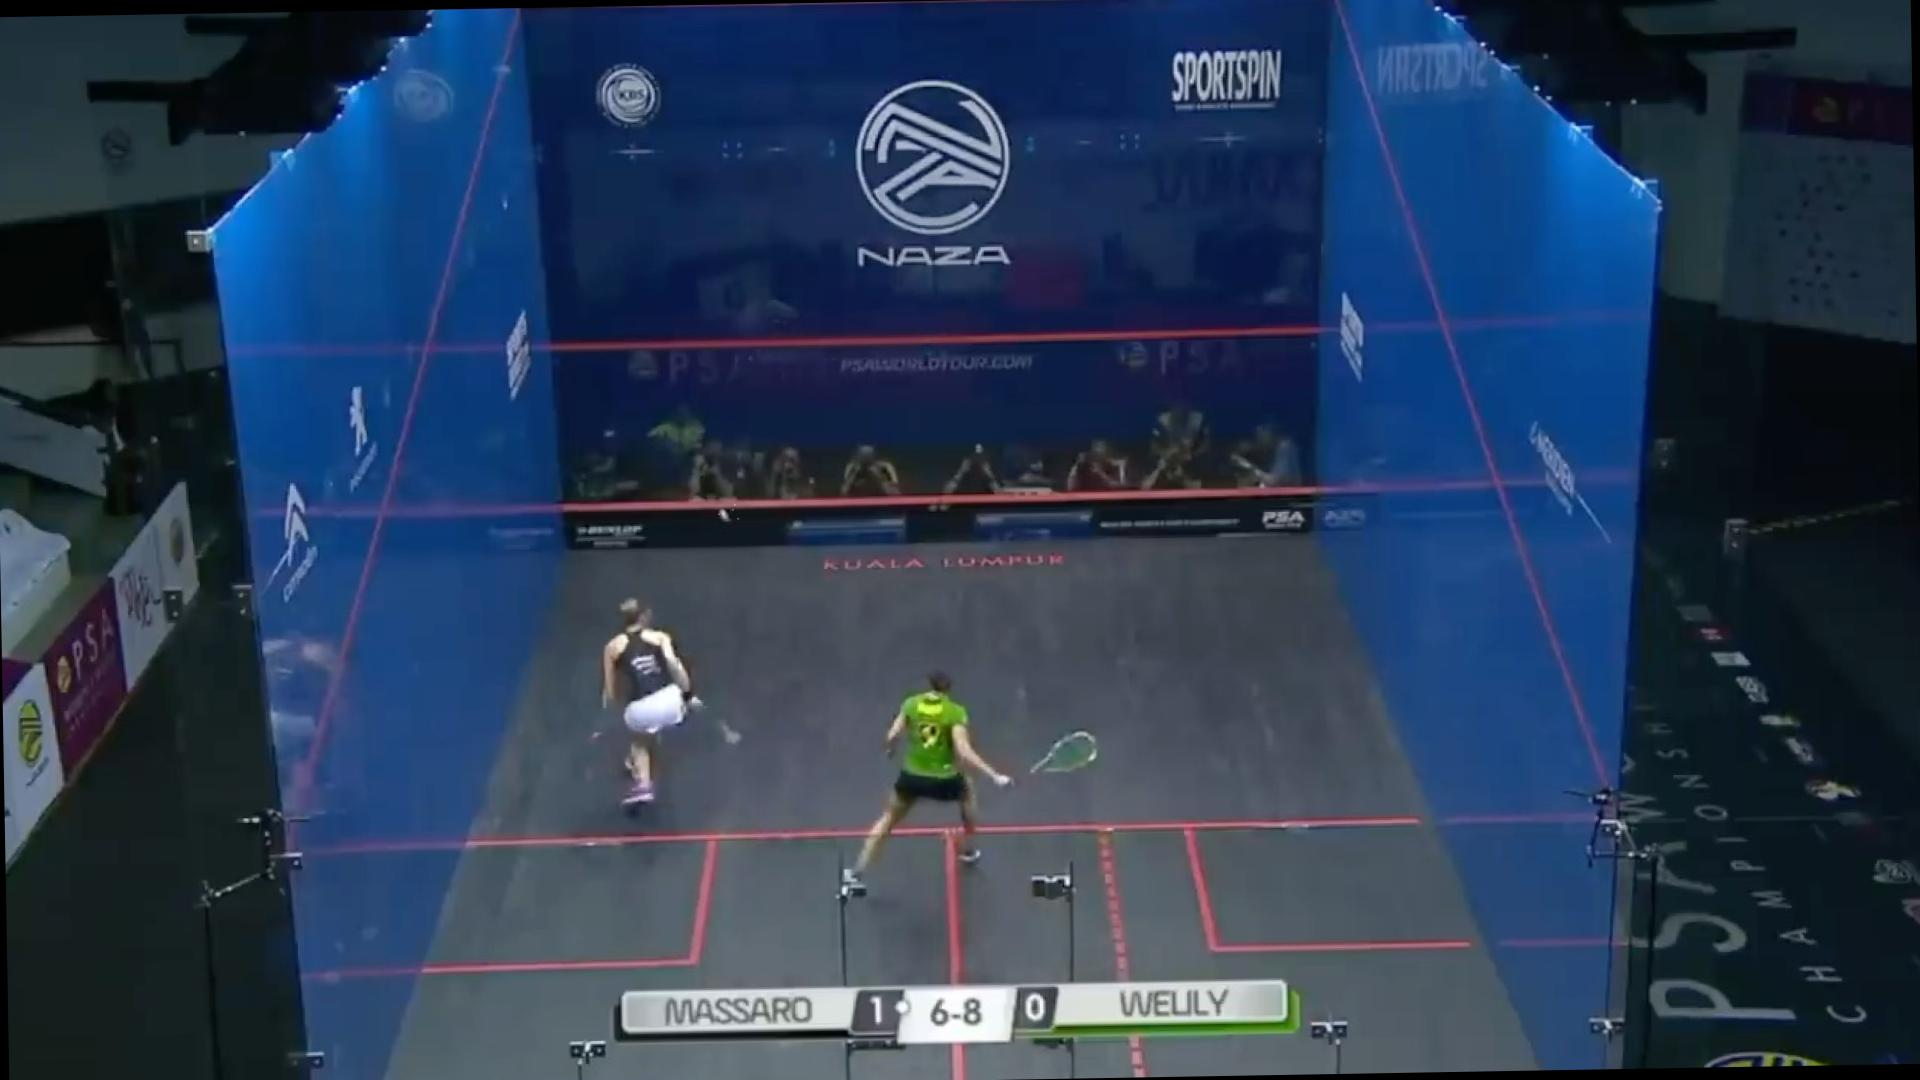Squash-Ball: (705, 498, 740, 538)
